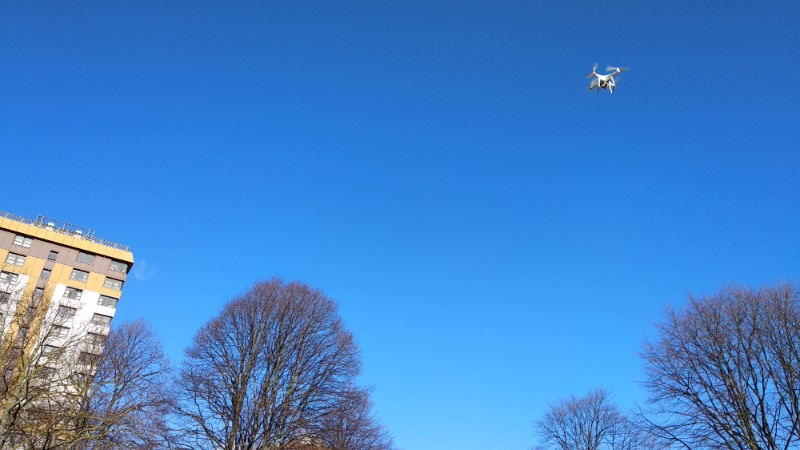drone: (583, 61, 632, 99)
